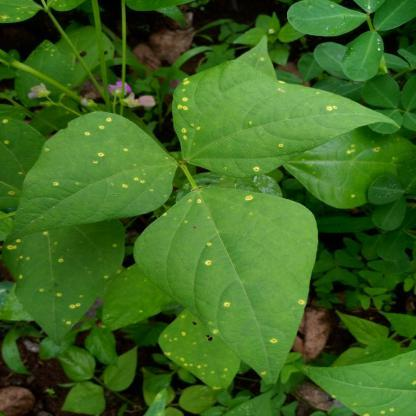Beans_Rust: (138, 190, 314, 378), (185, 81, 398, 175), (6, 115, 176, 226), (174, 36, 280, 157), (2, 226, 124, 330), (288, 140, 412, 210), (300, 350, 416, 416), (158, 309, 243, 388)
